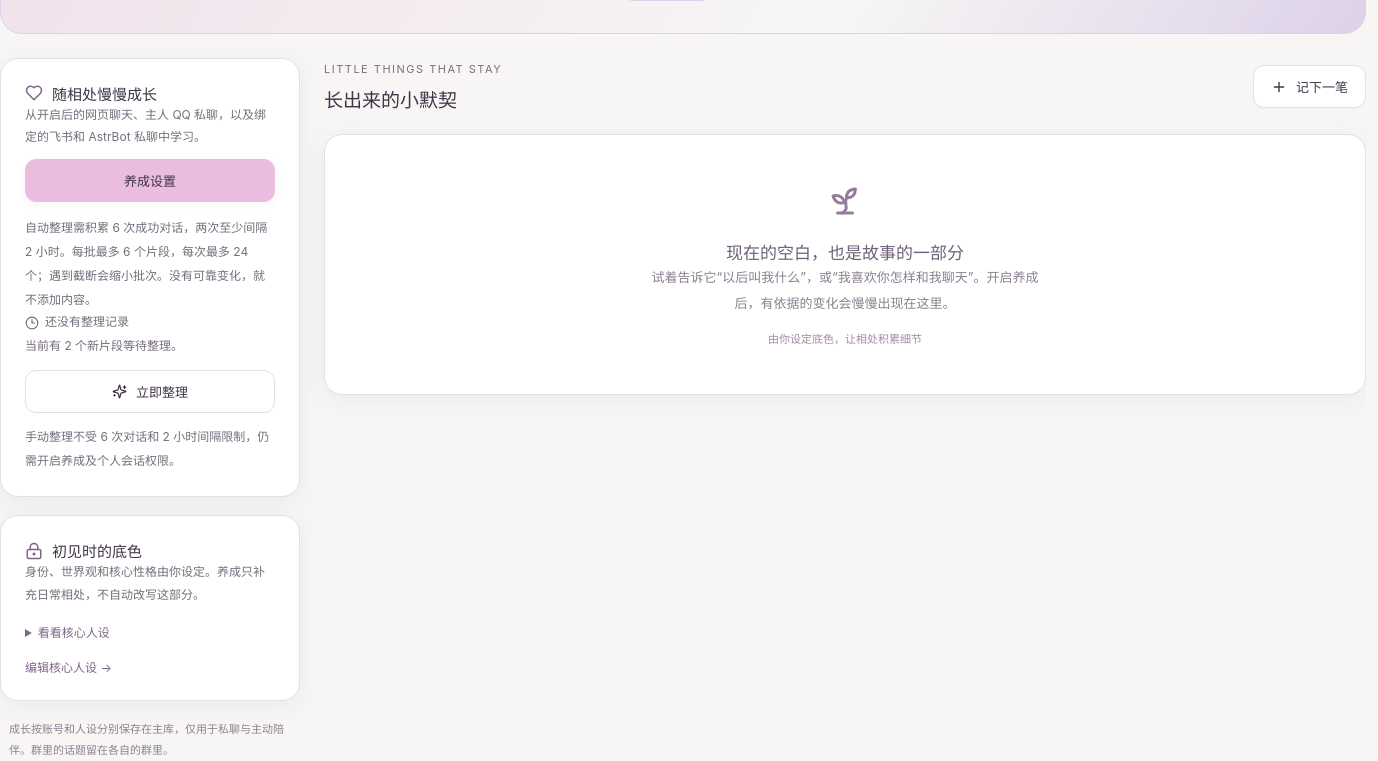
Scenario: disables manual reflection without permission and displays submission errors
(page scrolled)
Click the button "立即整理". click: click(150, 391)
box: [25,370,275,413]
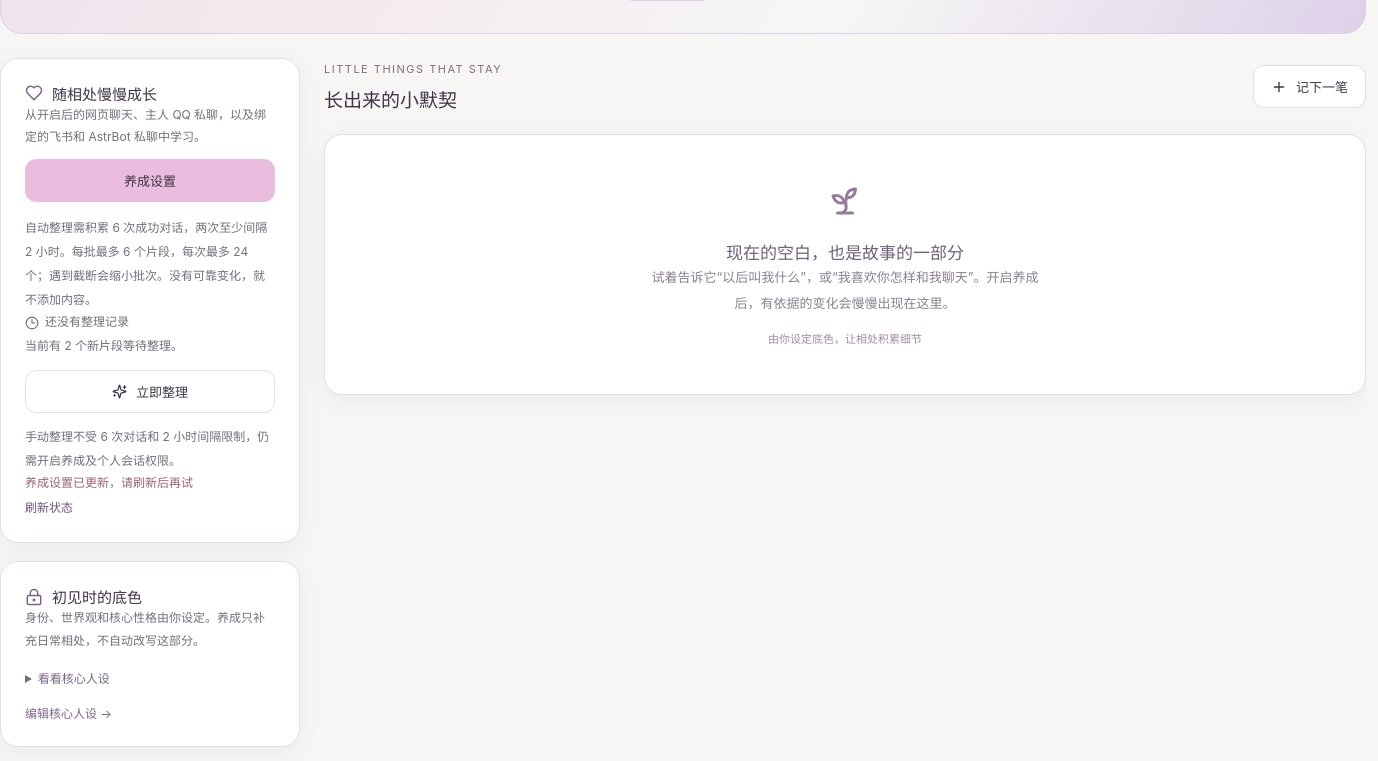
expect the message "养成设置已更新，请刷新后再试" is shown: met, box [25,476,193,490]
